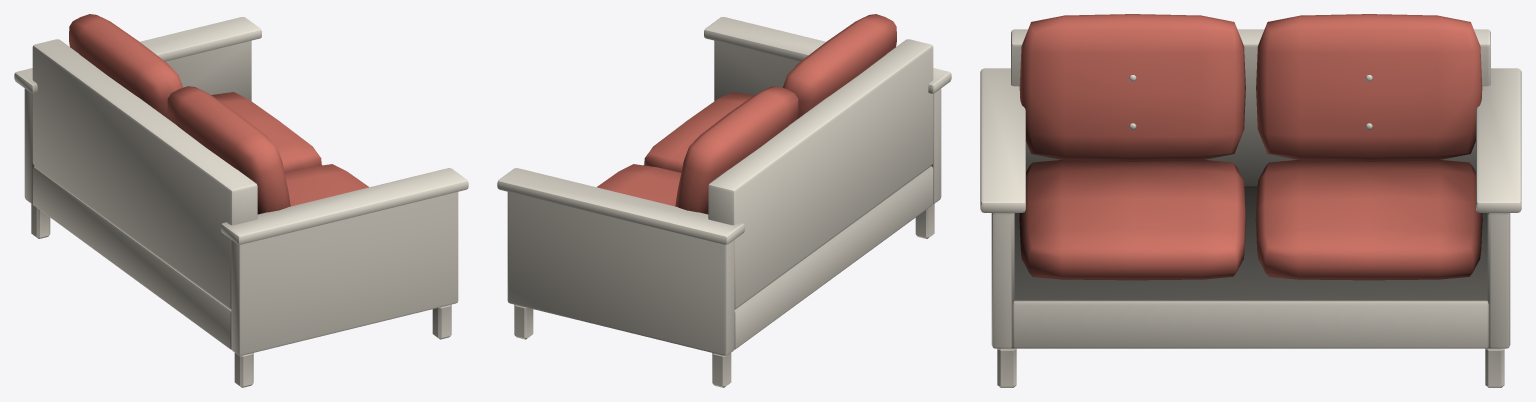
Rendered from nd_sofa_2.glb.
The picture shows the model from 3 angles, left to right: view 1: azimuth 30°, elevation 25°; view 2: azimuth 150°, elevation 25°; view 3: azimuth 270°, elevation 25°; orthographic projection. The views are drawn at different scales.
Visible parts, largest first — view 1: PART; view 2: PART; view 3: PART.
Part boxes in pixels (x1=…): PART: x1=14, y1=14, x2=468, y2=387; PART: x1=497, y1=14, x2=951, y2=387; PART: x1=980, y1=14, x2=1521, y2=387.
Size of the model in its own units: 0.84 by 0.7849 by 1.42.
